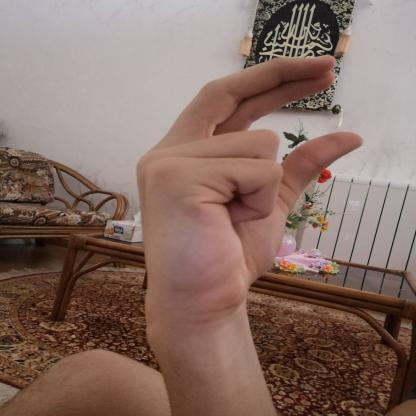DHELL: (116, 43, 376, 316)
